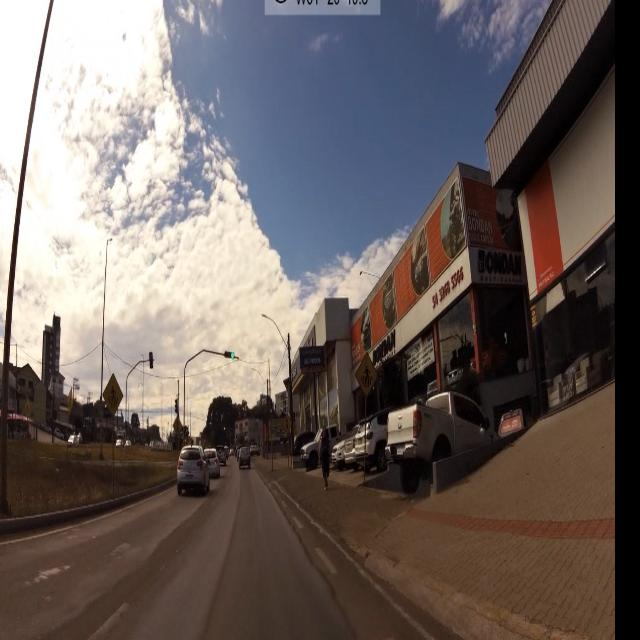A-32b: (356, 349, 378, 401), (100, 374, 125, 417)
